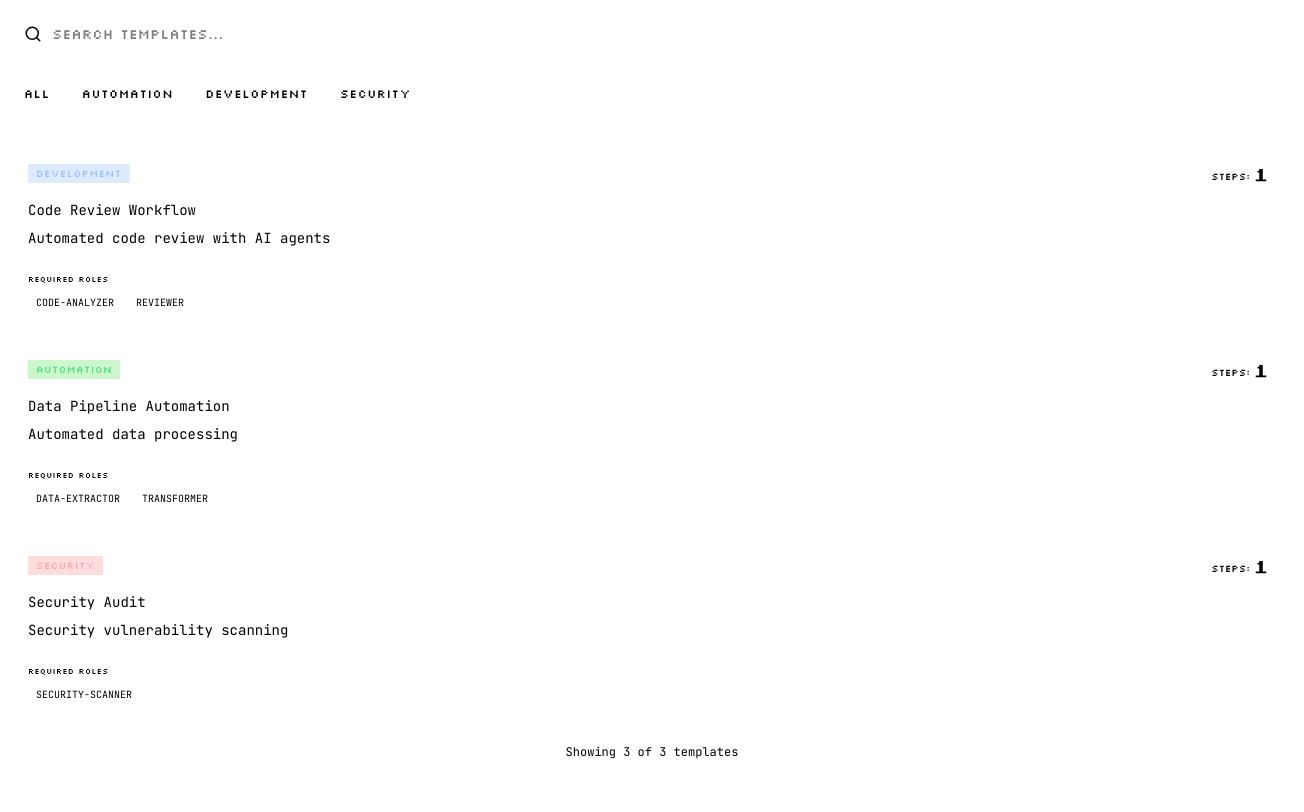
Test: IntentGallery › category filtering › filters by category when tab is clicked
Expected: the number of elements with test id "intent-card" is 3, left=12, top=148, right=1292, bottom=328; left=12, top=344, right=1292, bottom=524; left=12, top=540, right=1292, bottom=720
Click development category
Click the button with test id "category-tab-development" at (257, 94), box left=193, top=80, right=320, bottom=108
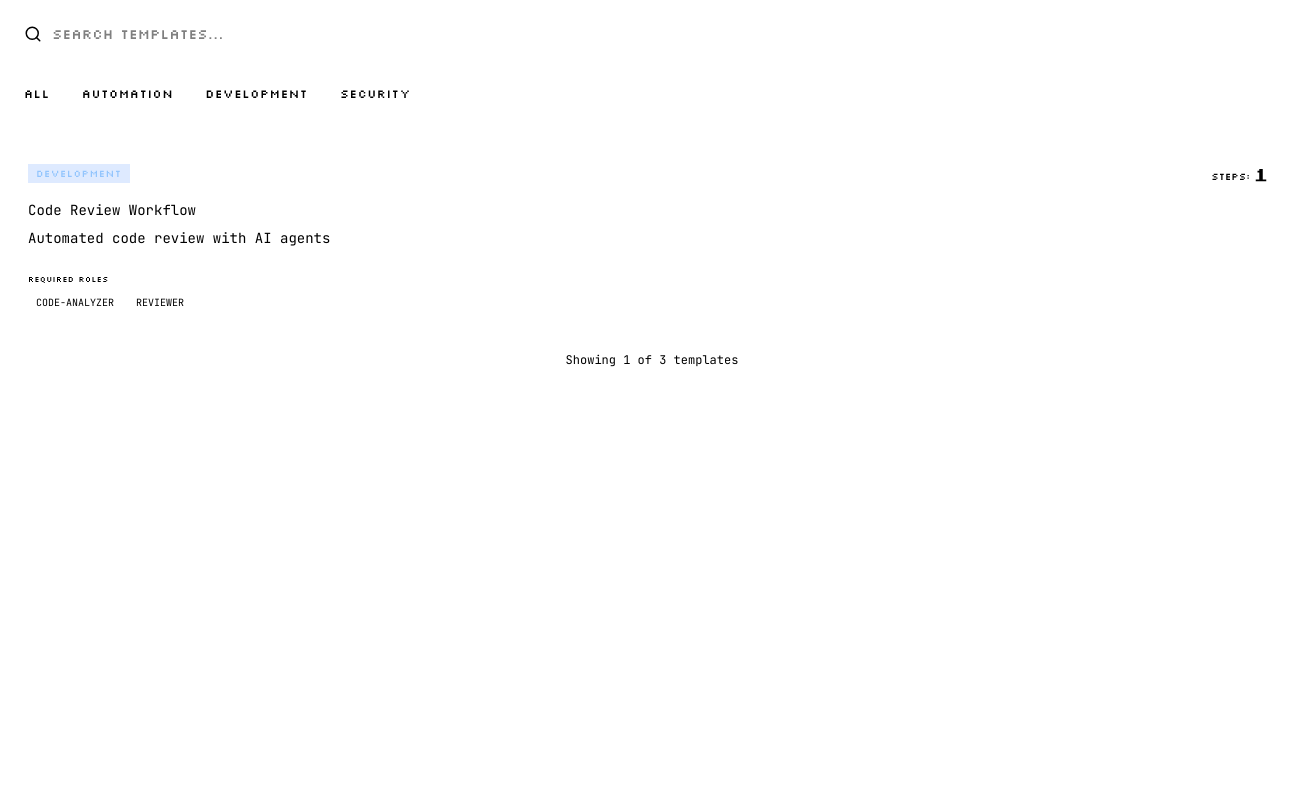
Expected: the heading "Code Review Workflow" is shown, left=28, top=201, right=196, bottom=219
Now the number of elements with test id "intent-card" is 1, box left=12, top=148, right=1292, bottom=328
